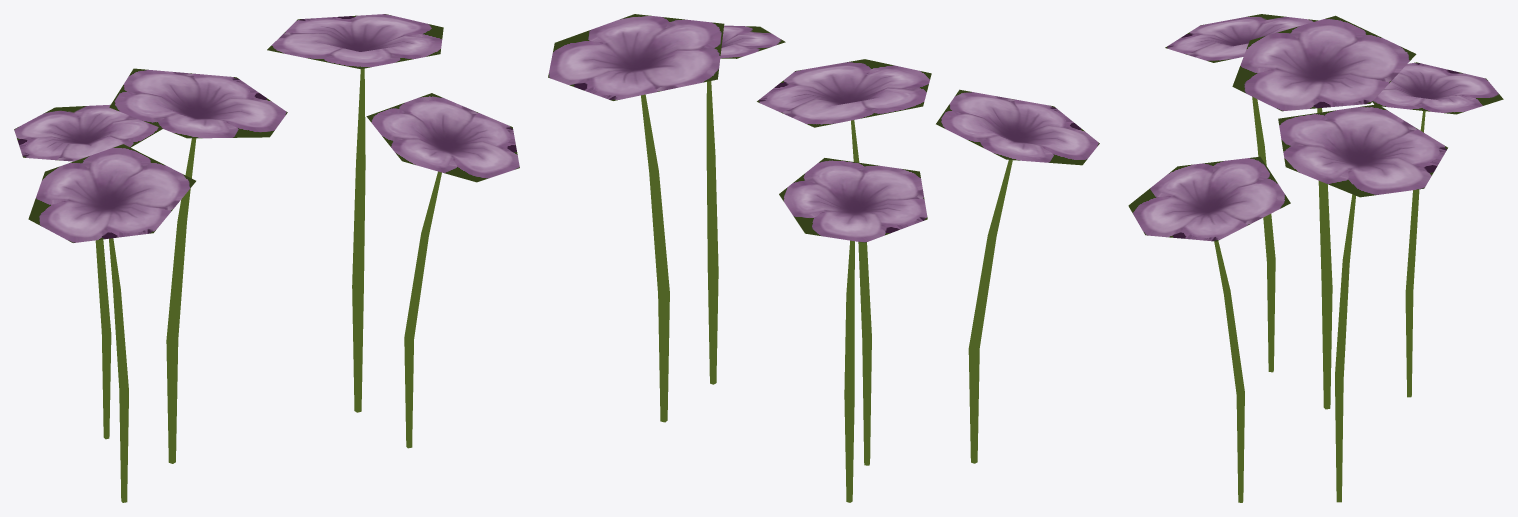
File: flowers_02.fbx
3 renders of one model, left to right at view 1: azimuth 30°, elevation 25°; view 2: azimuth 150°, elevation 25°; view 3: azimuth 270°, elevation 25°, orthographic. The views are drawn at different scales.
Parts seen in each view (by area): view 1: flowers_02; view 2: flowers_02; view 3: flowers_02.
Boxes of the visible parts, box(x1,y1,x2,y2) form: flowers_02: box(14, 14, 519, 502); flowers_02: box(548, 14, 1099, 502); flowers_02: box(1128, 14, 1503, 502).
Size of the model in its own units: 79.58 by 60.75 by 56.05.
